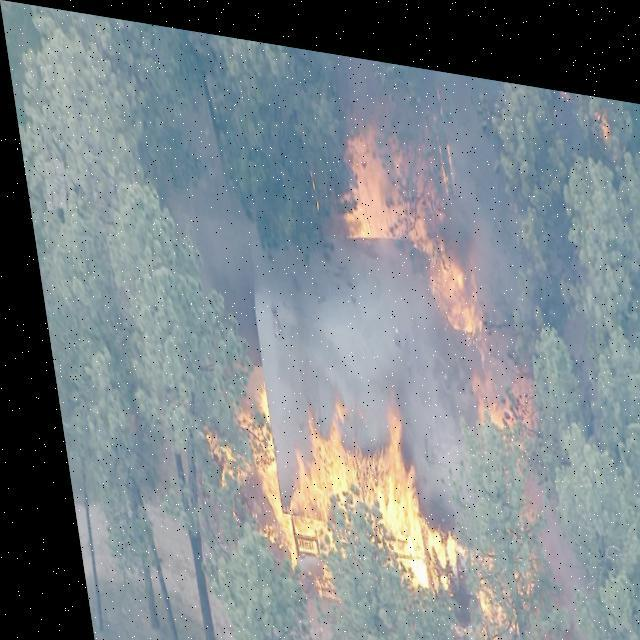Fire: (235, 375, 452, 585), (332, 116, 476, 314)
